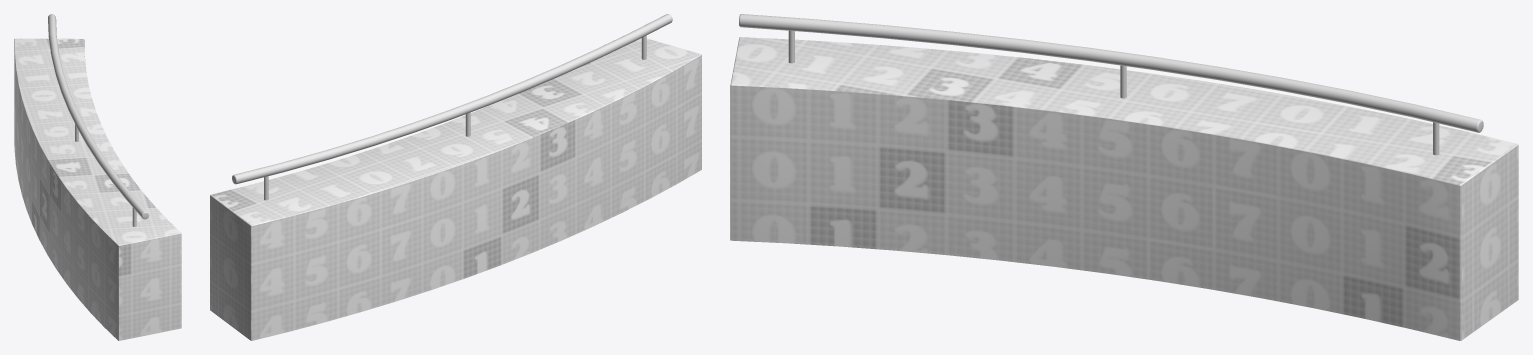
Rendered from DanceFloor01Parapet02.FBX.
3 renders of one model, left to right at view 1: azimuth 30°, elevation 25°; view 2: azimuth 150°, elevation 25°; view 3: azimuth 270°, elevation 25°, orthographic. The views are drawn at different scales.
Parts seen in each view (by area): view 1: DanceFloor01Parapet02; view 2: DanceFloor01Parapet02; view 3: DanceFloor01Parapet02.
Boxes of the visible parts, box(x1,y1,x2,y2) form: DanceFloor01Parapet02: box(14, 14, 181, 340); DanceFloor01Parapet02: box(210, 14, 701, 340); DanceFloor01Parapet02: box(730, 14, 1518, 340).
Size of the model in its own units: 184 by 115 by 412.
